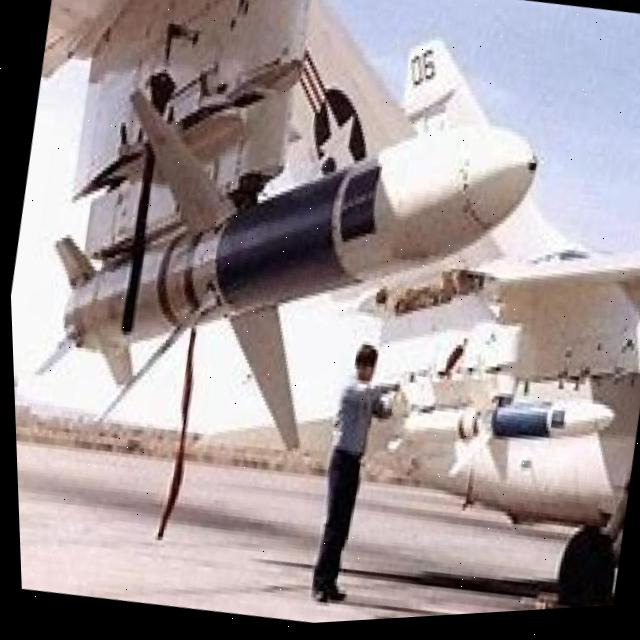missile: (9, 42, 555, 490), (370, 352, 620, 512)
